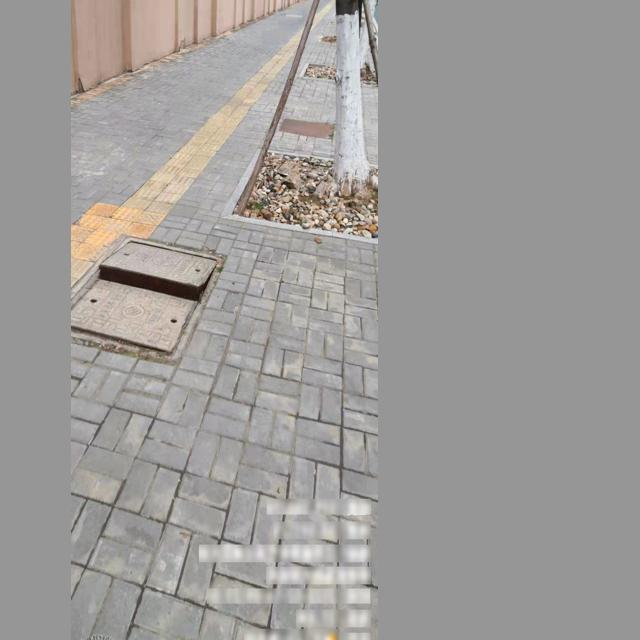uncovered: (71, 236, 228, 366)
